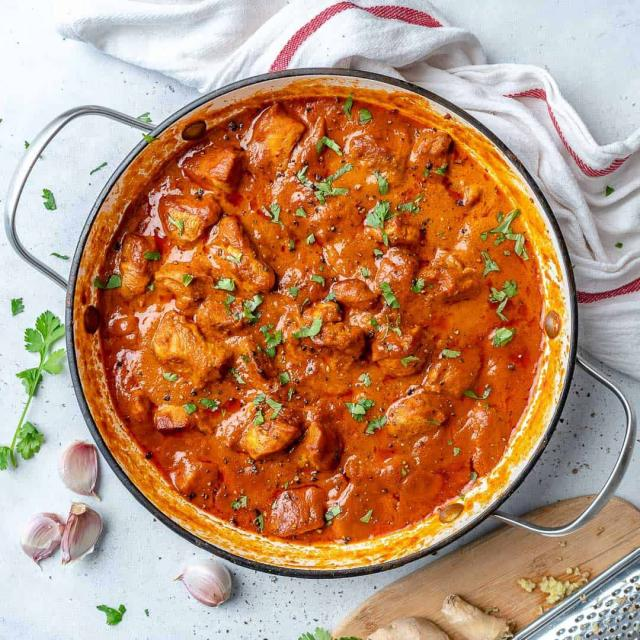Butter Chicken: (85, 103, 545, 545)
